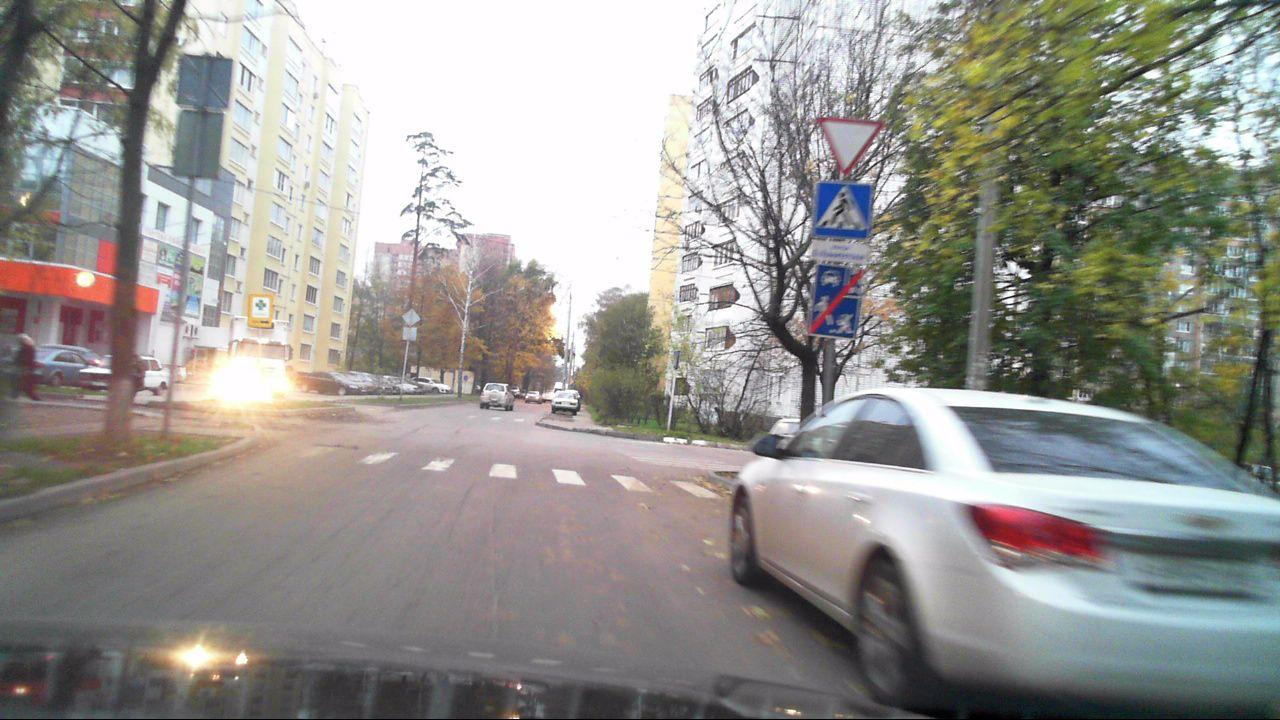2_4: (815, 113, 881, 175)
5_19_1: (815, 179, 870, 238)
5_22: (809, 269, 859, 338)
